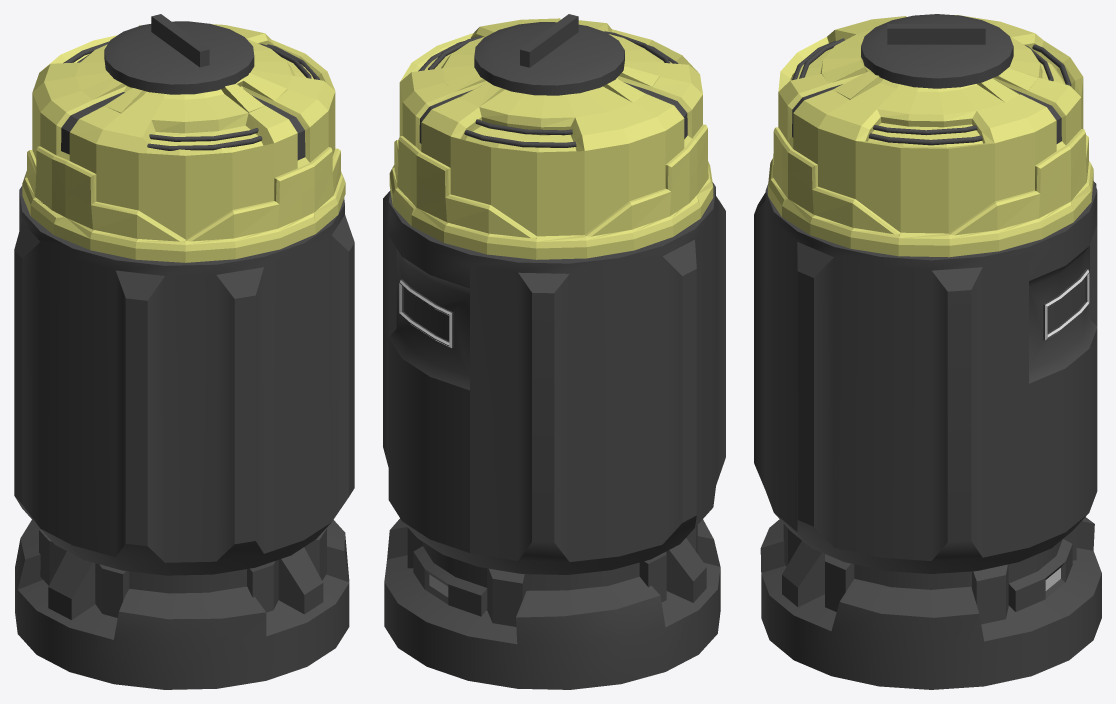
Rendered from container.fbx.
3 views of the same model, side by side, from view 1: azimuth 30°, elevation 25°; view 2: azimuth 150°, elevation 25°; view 3: azimuth 270°, elevation 25° (orthographic).
Parts seen in each view (by area): view 1: container1:pCylinder1, container1:pTorus6, container1:pCube3; view 2: container1:pCylinder1, container1:pTorus6, container1:pCube3; view 3: container1:pCylinder1, container1:pTorus6, container1:pCube3.
Part boxes in pixels (box(x1,y1,x2,y2)): container1:pCylinder1: box(14, 185, 354, 689); container1:pTorus6: box(22, 24, 345, 262); container1:pCube3: box(104, 14, 254, 94); container1:pCylinder1: box(383, 182, 725, 689); container1:pTorus6: box(389, 18, 713, 259); container1:pCube3: box(474, 14, 624, 95); container1:pCylinder1: box(754, 181, 1101, 689); container1:pTorus6: box(768, 15, 1093, 257); container1:pCube3: box(861, 14, 1013, 88).
Size of the model in its own units: 2.19 by 4.02 by 2.14.
